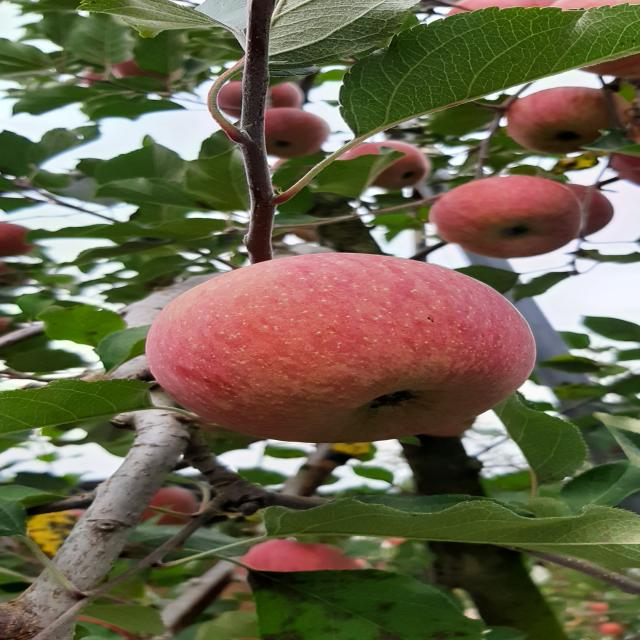fresh: (139, 248, 554, 448)
